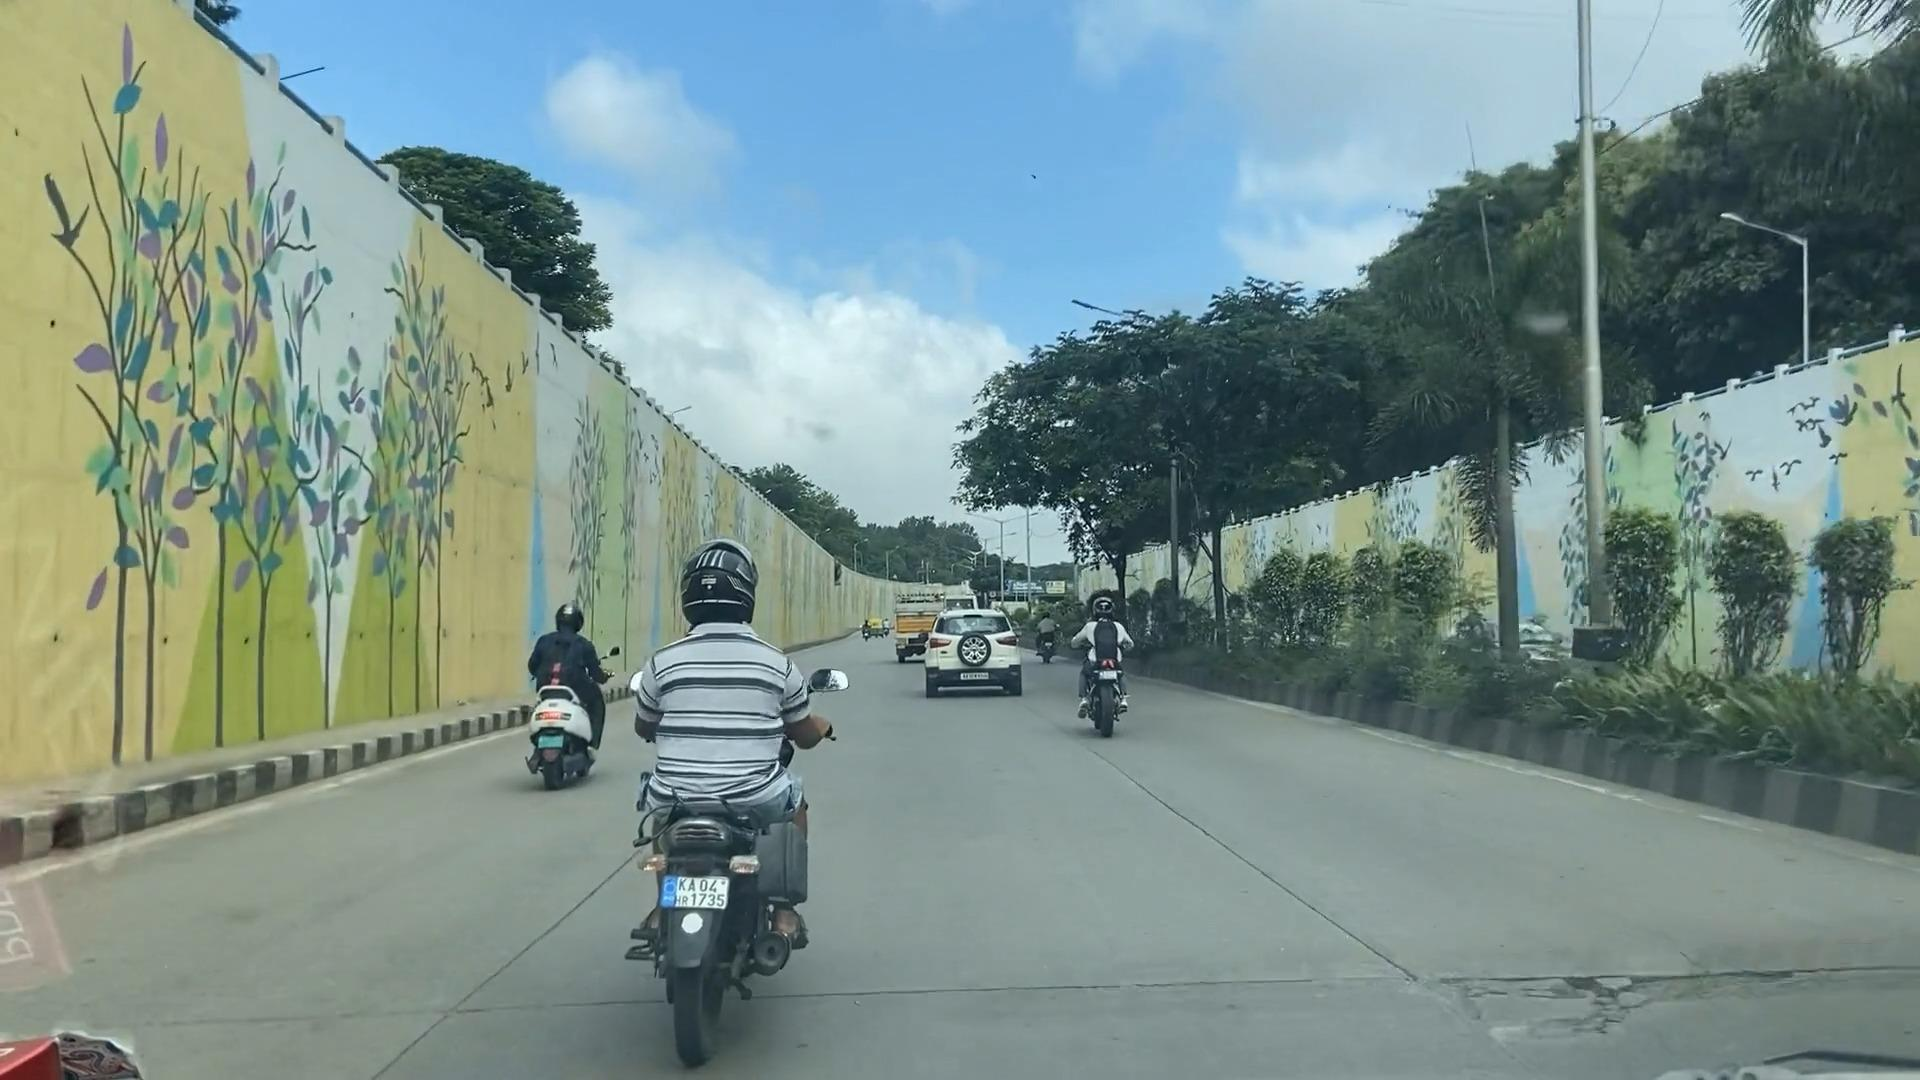LMV: (636, 549, 804, 1019), (512, 607, 603, 781), (1062, 599, 1129, 732), (924, 607, 1019, 696)
RoadDamages: (1410, 932, 1894, 1080)
